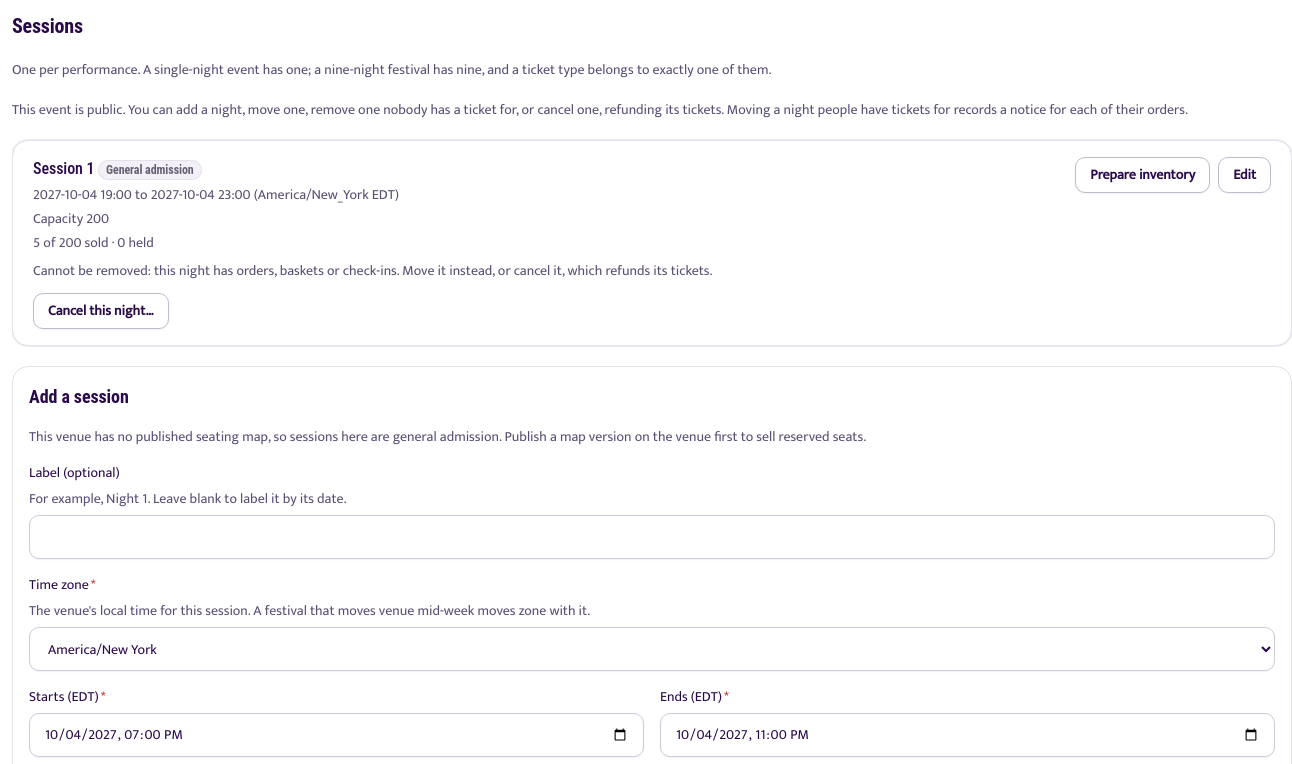
Test: cancelling a night › re-reads the nights, with the new revision, and says what was refunded
Click the button "Cancel this night…". click: (101, 311)
box: x1=33 y1=293 x2=169 y2=329
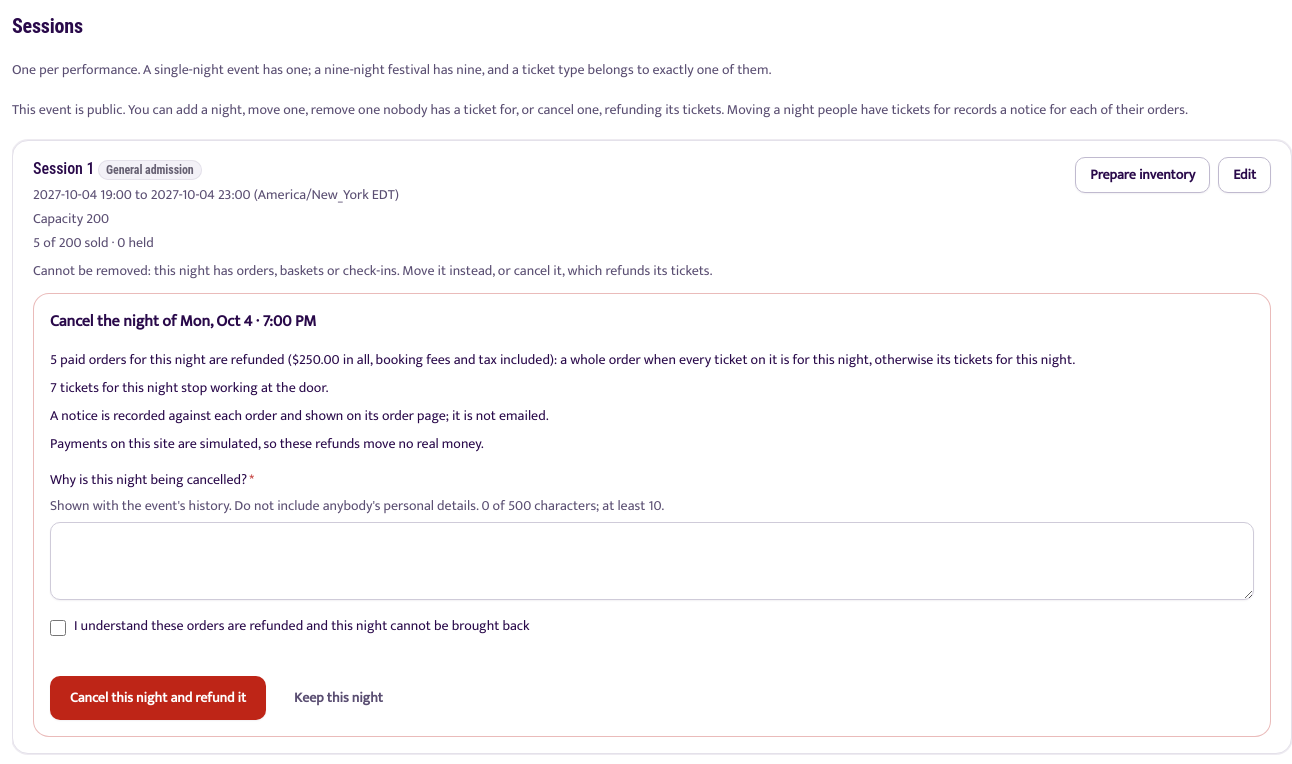
Check: the text "paid orders for this night are refunded" is shown, box x1=50 y1=348 x2=1075 y2=371
Type "The singer cancelled at short notice." into the text box labelled "Why is this night being cancelled?*". click: (652, 561)
box: x1=50 y1=522 x2=1254 y2=600
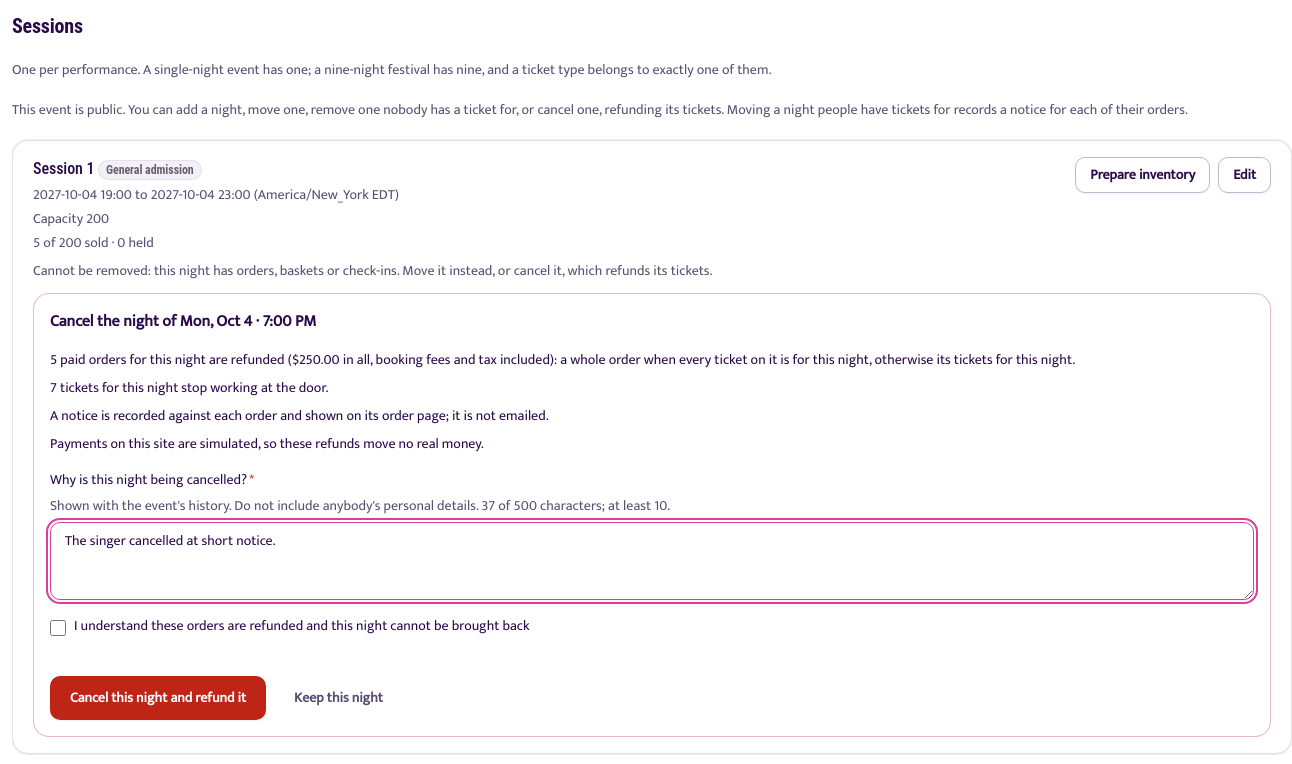
Click the checkbox. click: (58, 628)
box: x1=50 y1=620 x2=66 y2=636
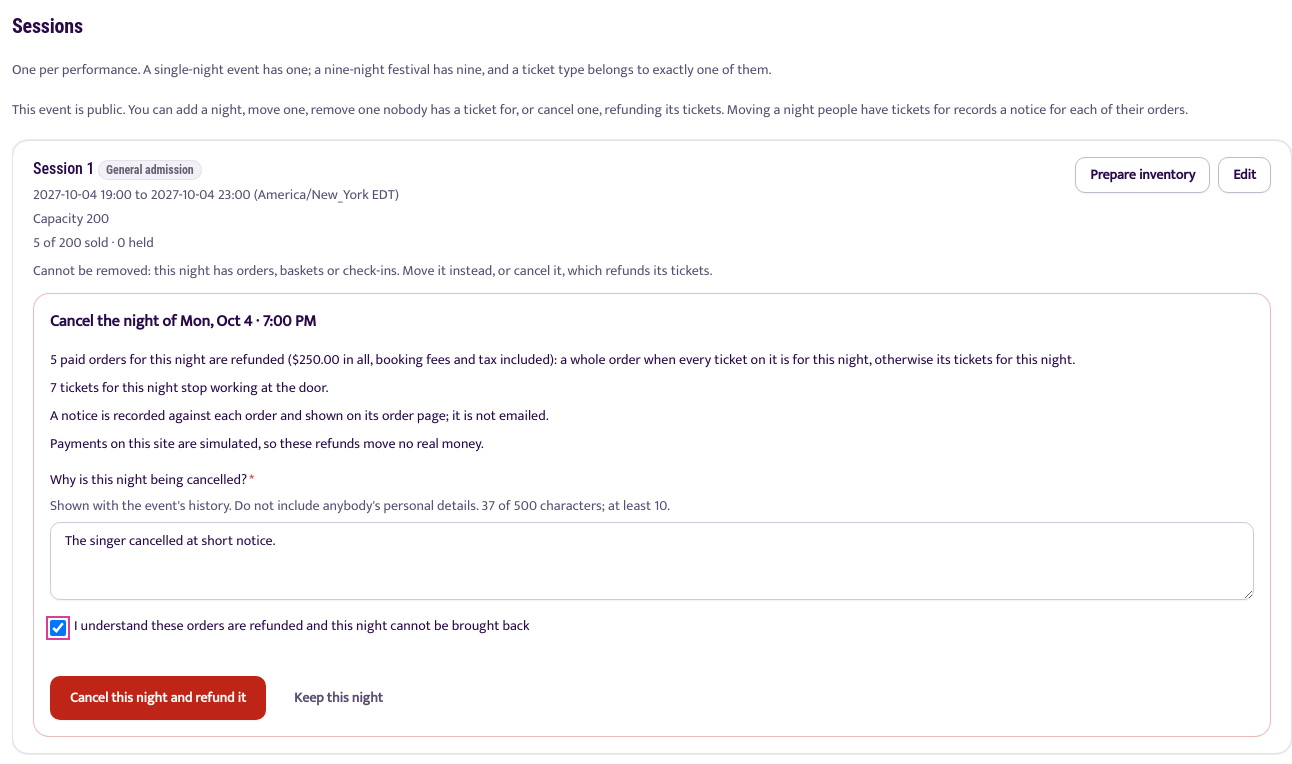
Click the button "Cancel this night and refund it". click: (158, 698)
box: x1=50 y1=676 x2=266 y2=720
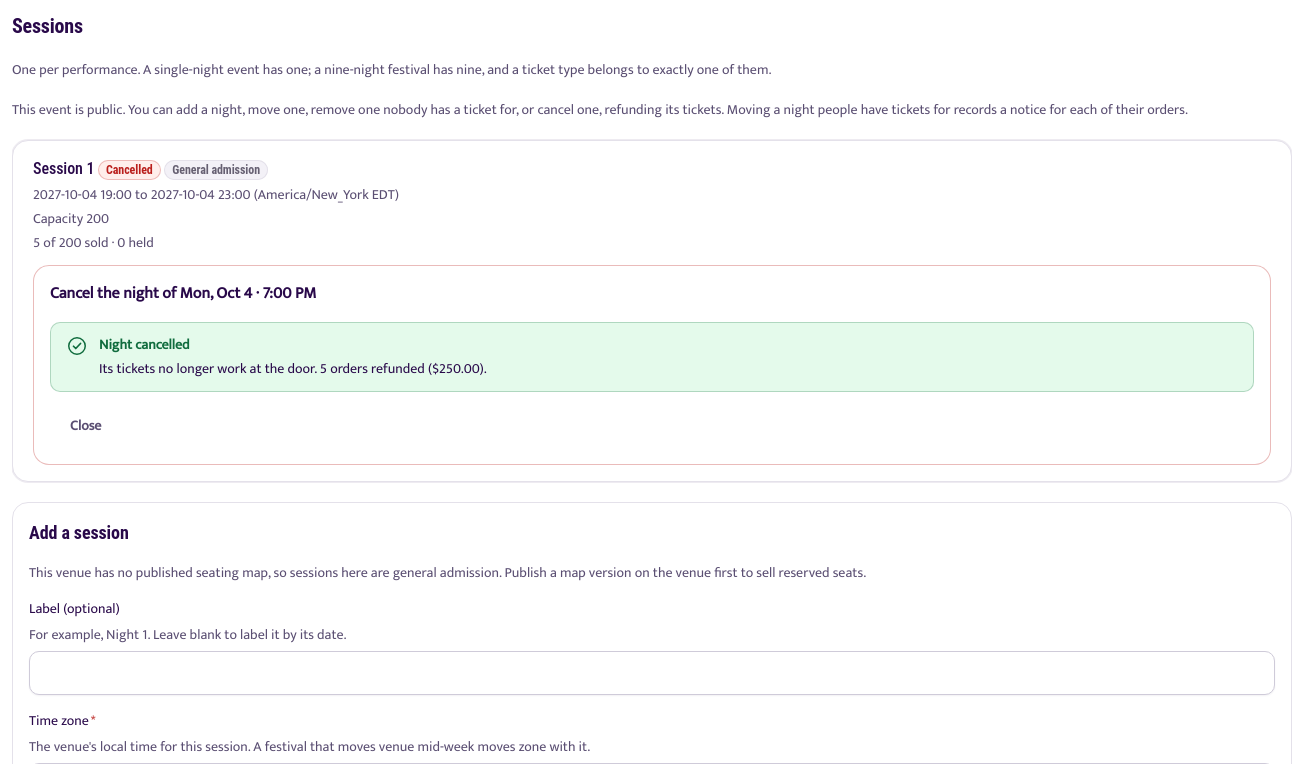
Check: the text "Its tickets no longer work at the door. 5 orders refunded ($250.00)." is shown, box x1=99 y1=357 x2=487 y2=380
Check: the text "Night cancelled" is shown, box x1=99 y1=333 x2=190 y2=356
